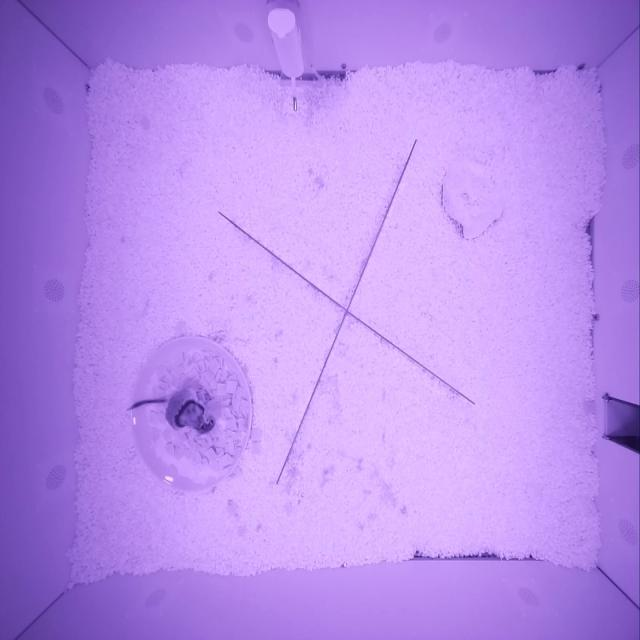adult_front: (165, 388, 216, 437)
